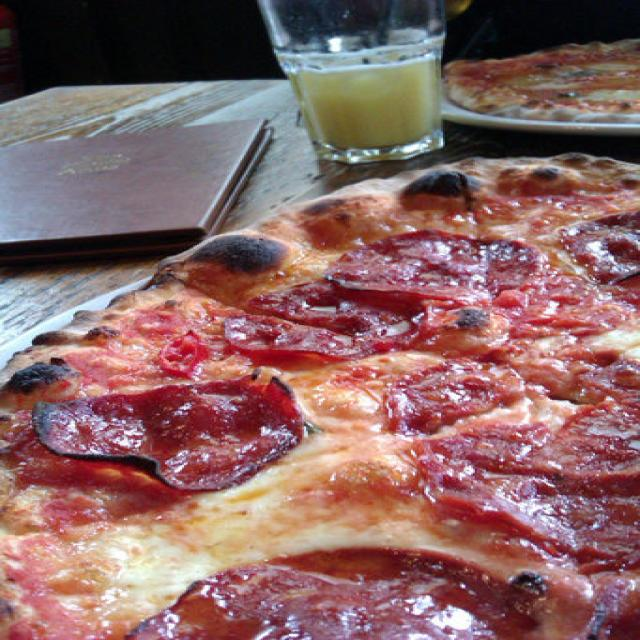Pepperoni: (144, 547, 537, 640), (44, 382, 305, 486), (433, 432, 640, 556), (344, 230, 530, 300), (382, 363, 519, 433), (561, 212, 640, 292), (230, 312, 358, 360), (572, 360, 640, 437), (159, 331, 201, 379)
Pizza: (0, 154, 640, 639), (447, 37, 640, 126)
